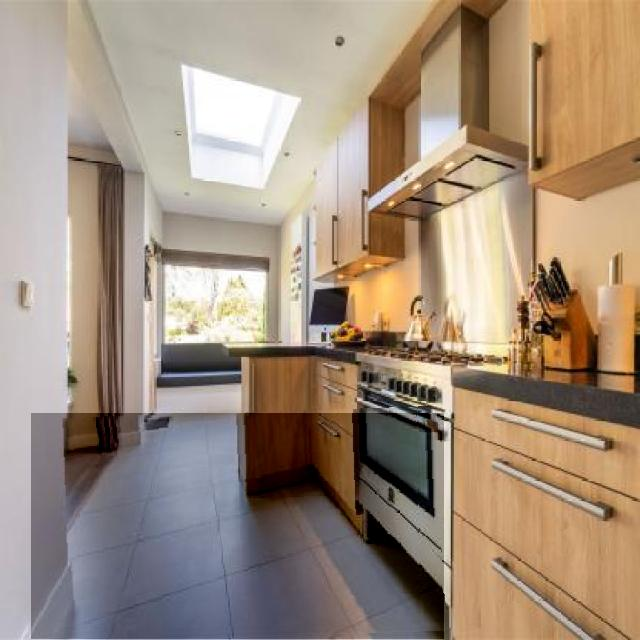floor: (32, 414, 444, 639)
